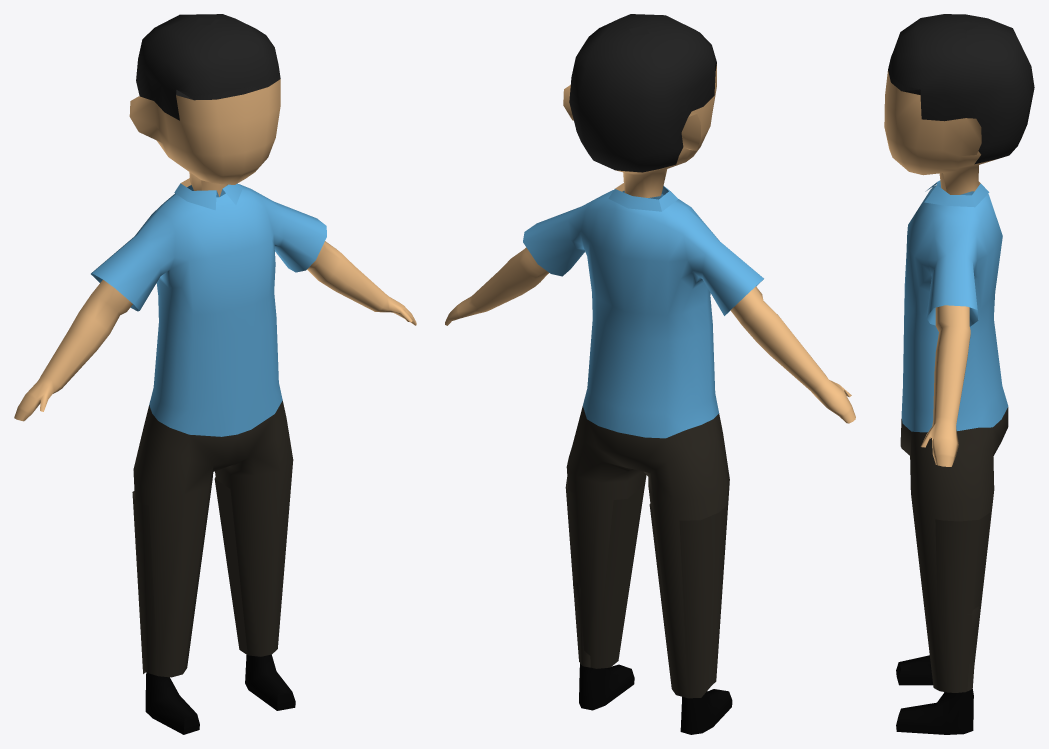
The model's file is Teacher.fbx.
3 renders of one model, left to right at view 1: azimuth 30°, elevation 25°; view 2: azimuth 150°, elevation 25°; view 3: azimuth 270°, elevation 25°, orthographic. The views are drawn at different scales.
Parts seen in each view (by area): view 1: Head_001; view 2: Head_001; view 3: Head_001.
Part boxes in pixels (x1,y1,x2,y2): Head_001: (14,14,416,734); Head_001: (445,14,855,734); Head_001: (884,14,1034,734).
Size of the model in its own units: 54.84 by 88.53 by 17.73.
